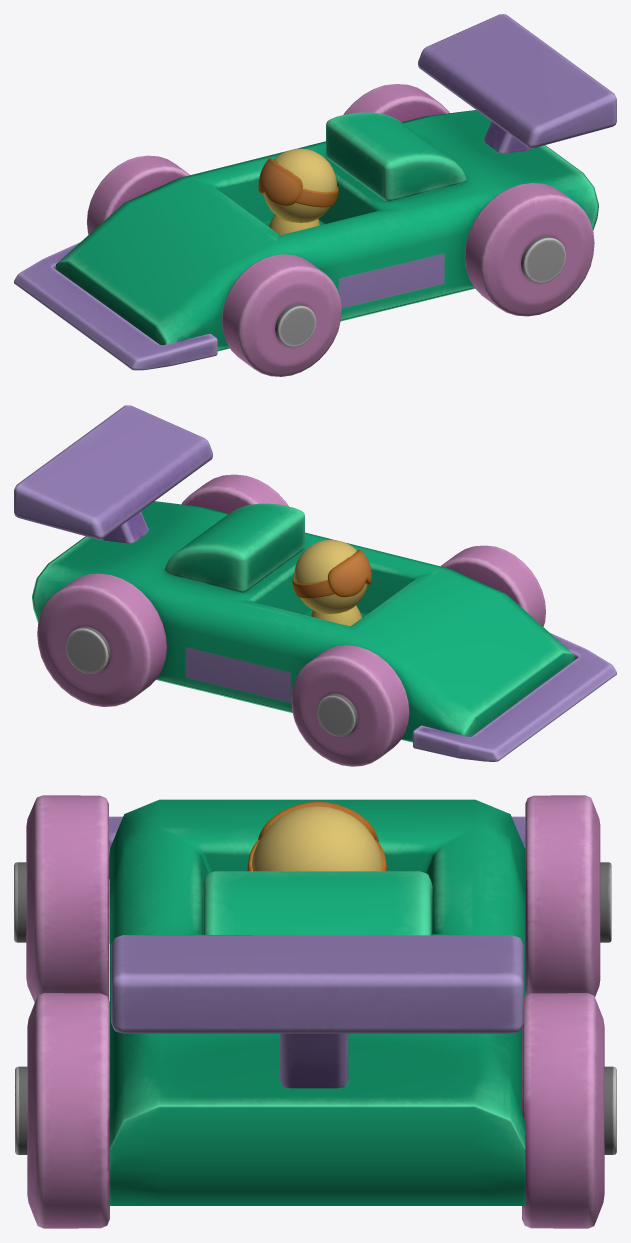
Rendered from prp_toyRacecar_model.FBX.
3 views of the same model, one above another, from view 1: azimuth 30°, elevation 25°; view 2: azimuth 150°, elevation 25°; view 3: azimuth 270°, elevation 25° (orthographic). The views are drawn at different scales.
Visible parts, largest first — view 1: prp_toyRacecar_model; view 2: prp_toyRacecar_model; view 3: prp_toyRacecar_model.
Boxes of the visible parts, bbox=[...] form: prp_toyRacecar_model: bbox=[14, 14, 616, 376]; prp_toyRacecar_model: bbox=[14, 405, 616, 766]; prp_toyRacecar_model: bbox=[14, 795, 616, 1228].
Size of what is drawn, in the model's own units: 38.23 by 22.68 by 13.6.
